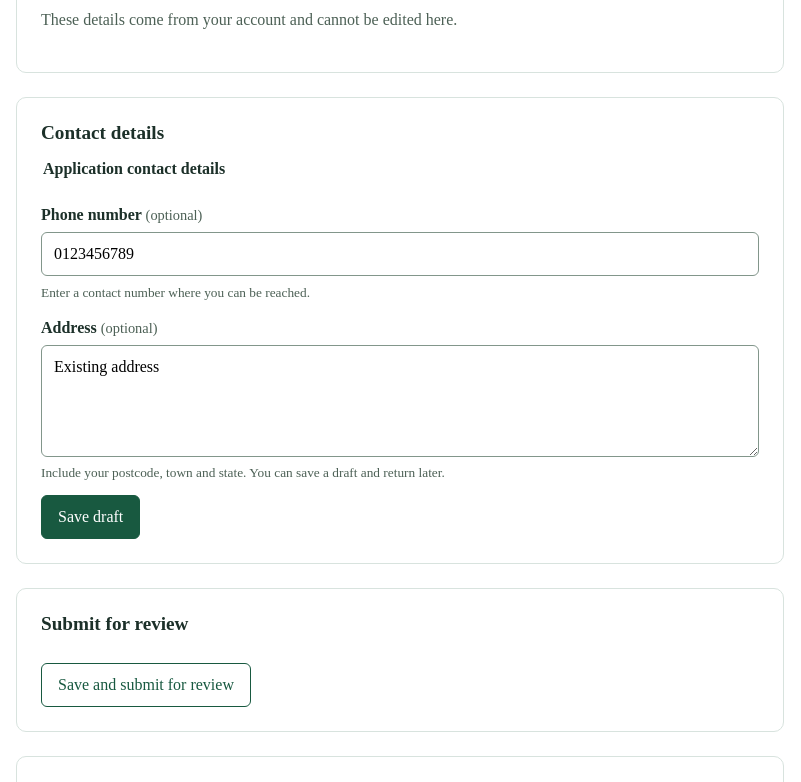
Scenario: application submission › confirms, saves the visible edits, then submits and locks the form
(page scrolled)
Replace the text in the text box with id "address" with "Latest address": (400, 401) [41, 345, 759, 457]
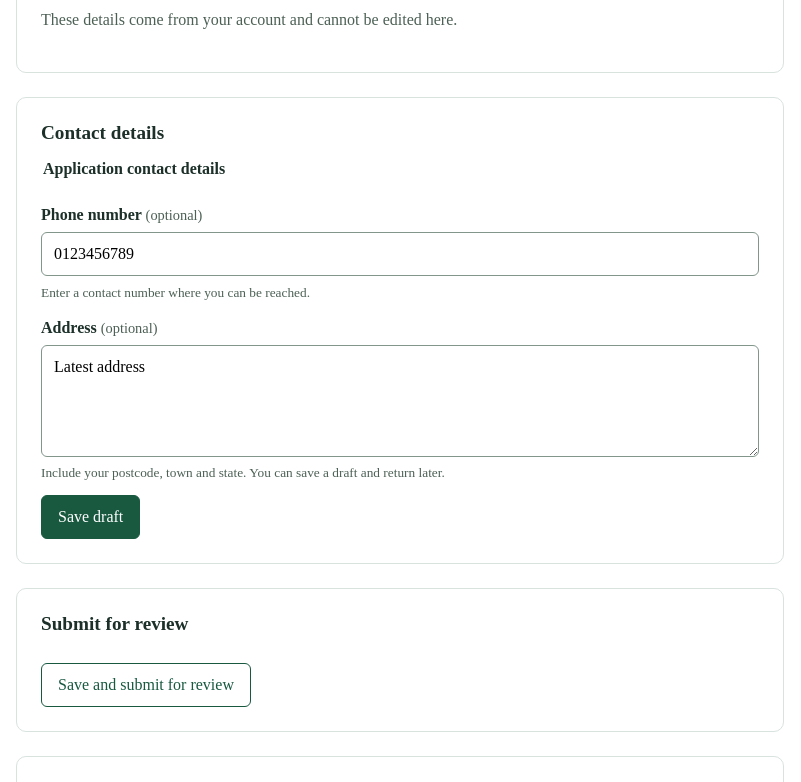
Click the button "Save and submit for review": (146, 685) [41, 663, 251, 707]
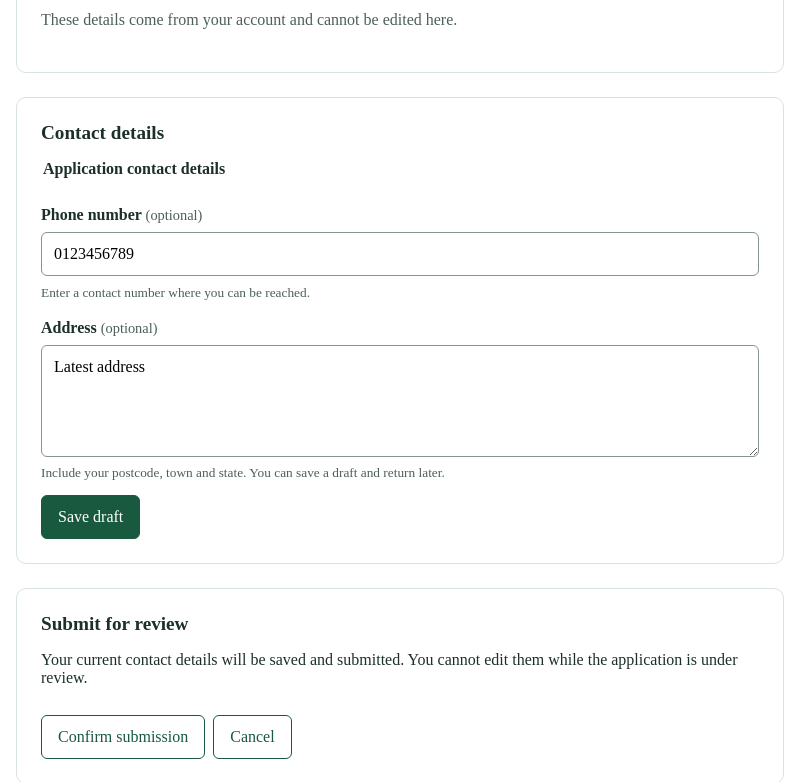
Click the button "Confirm submission": (123, 737) [41, 715, 205, 759]
(page scrolled)
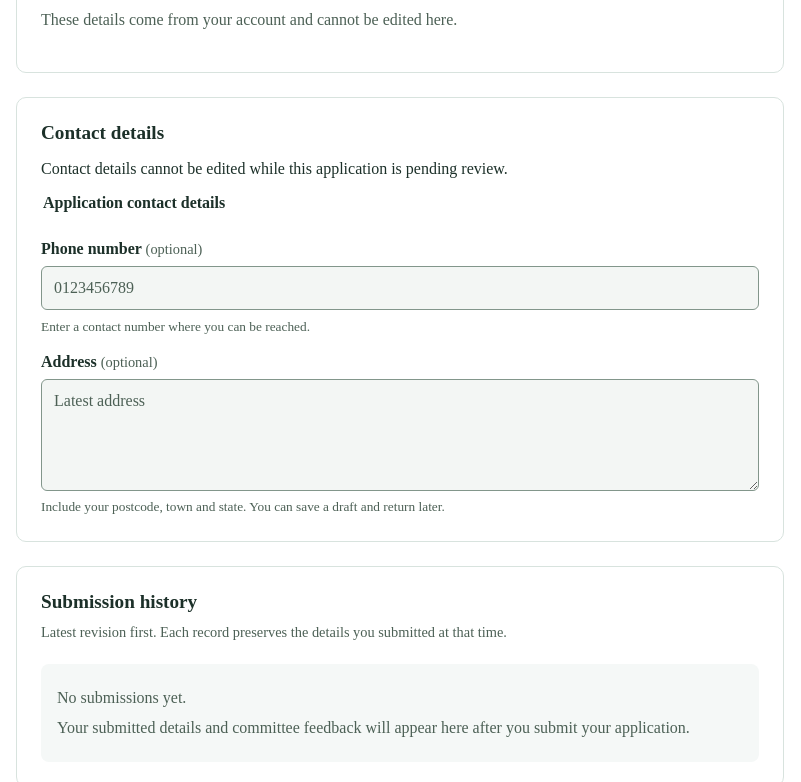
Check: the element that starts with "Application contact details" is disabled, box [41, 194, 759, 517]
